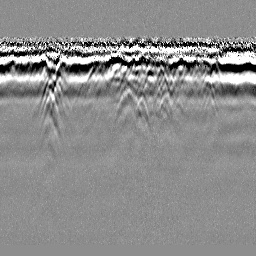cavity: (113, 85, 142, 125)
